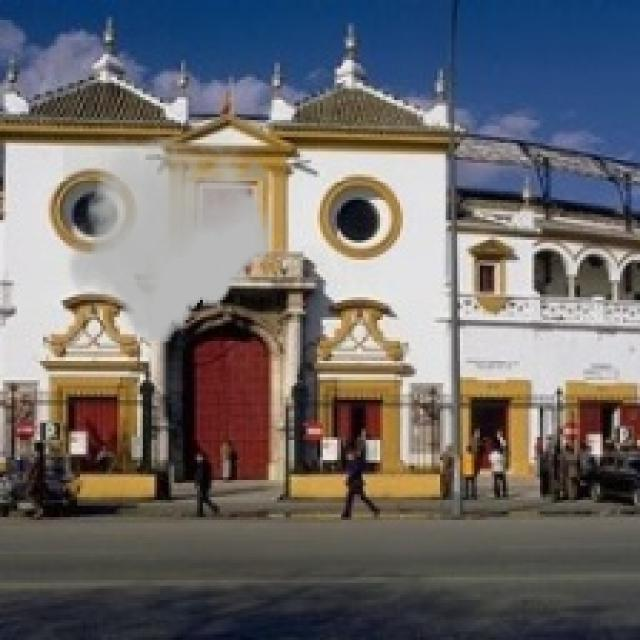Smoke: (62, 137, 278, 343)
